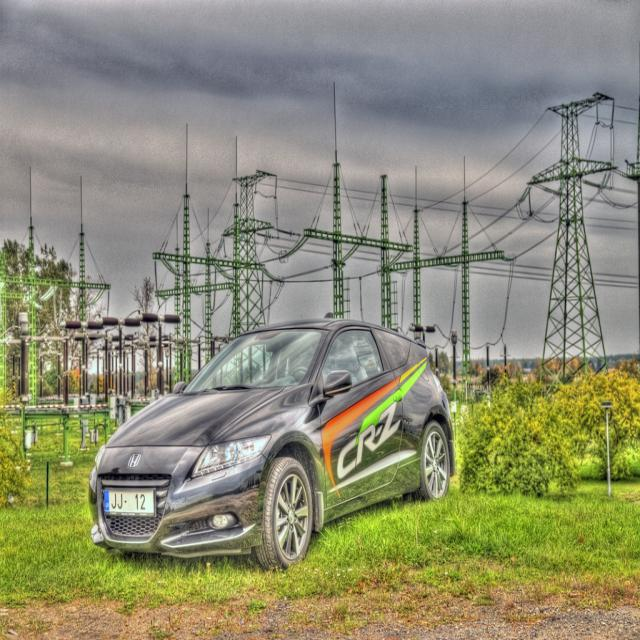other: (83, 315, 465, 574)
